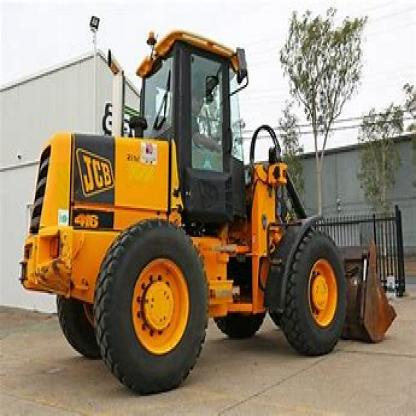bull_dozer/loader/grader: (16, 20, 408, 400)
